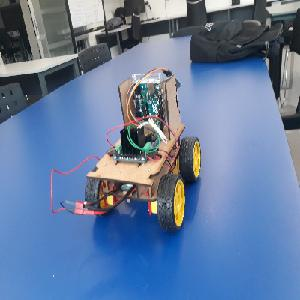Robot: (84, 74, 202, 232)
